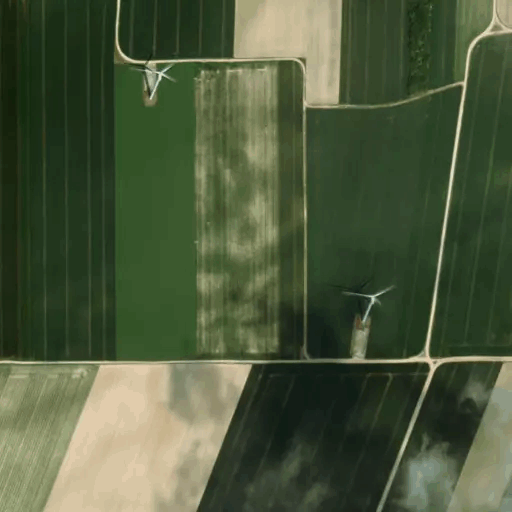wt: (334, 276, 401, 331), (130, 48, 177, 106)
